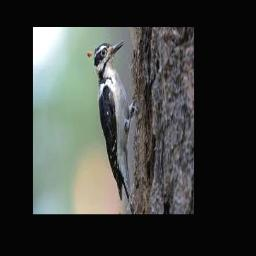Woodpecker: (87, 41, 137, 208)
